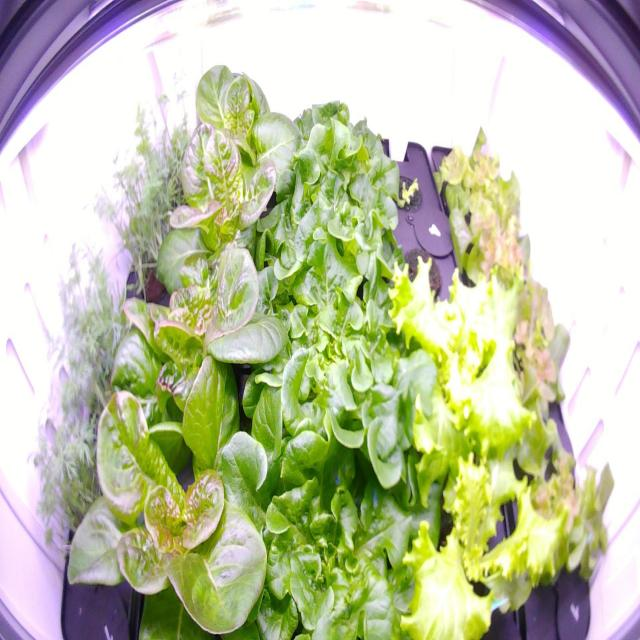Ready: (58, 340, 298, 640), (101, 200, 303, 441), (138, 118, 296, 312), (173, 51, 306, 216)
